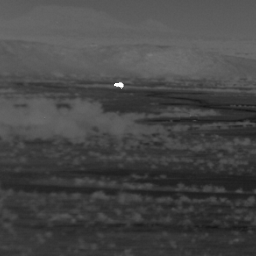Target: (114, 81, 126, 89)
